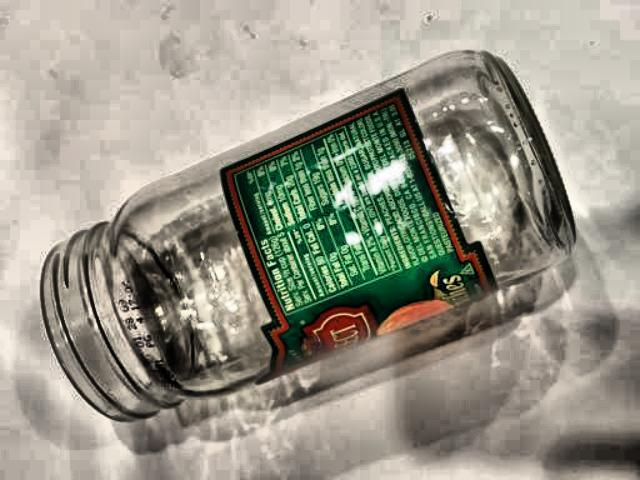Almennt: (0, 34, 585, 459)
